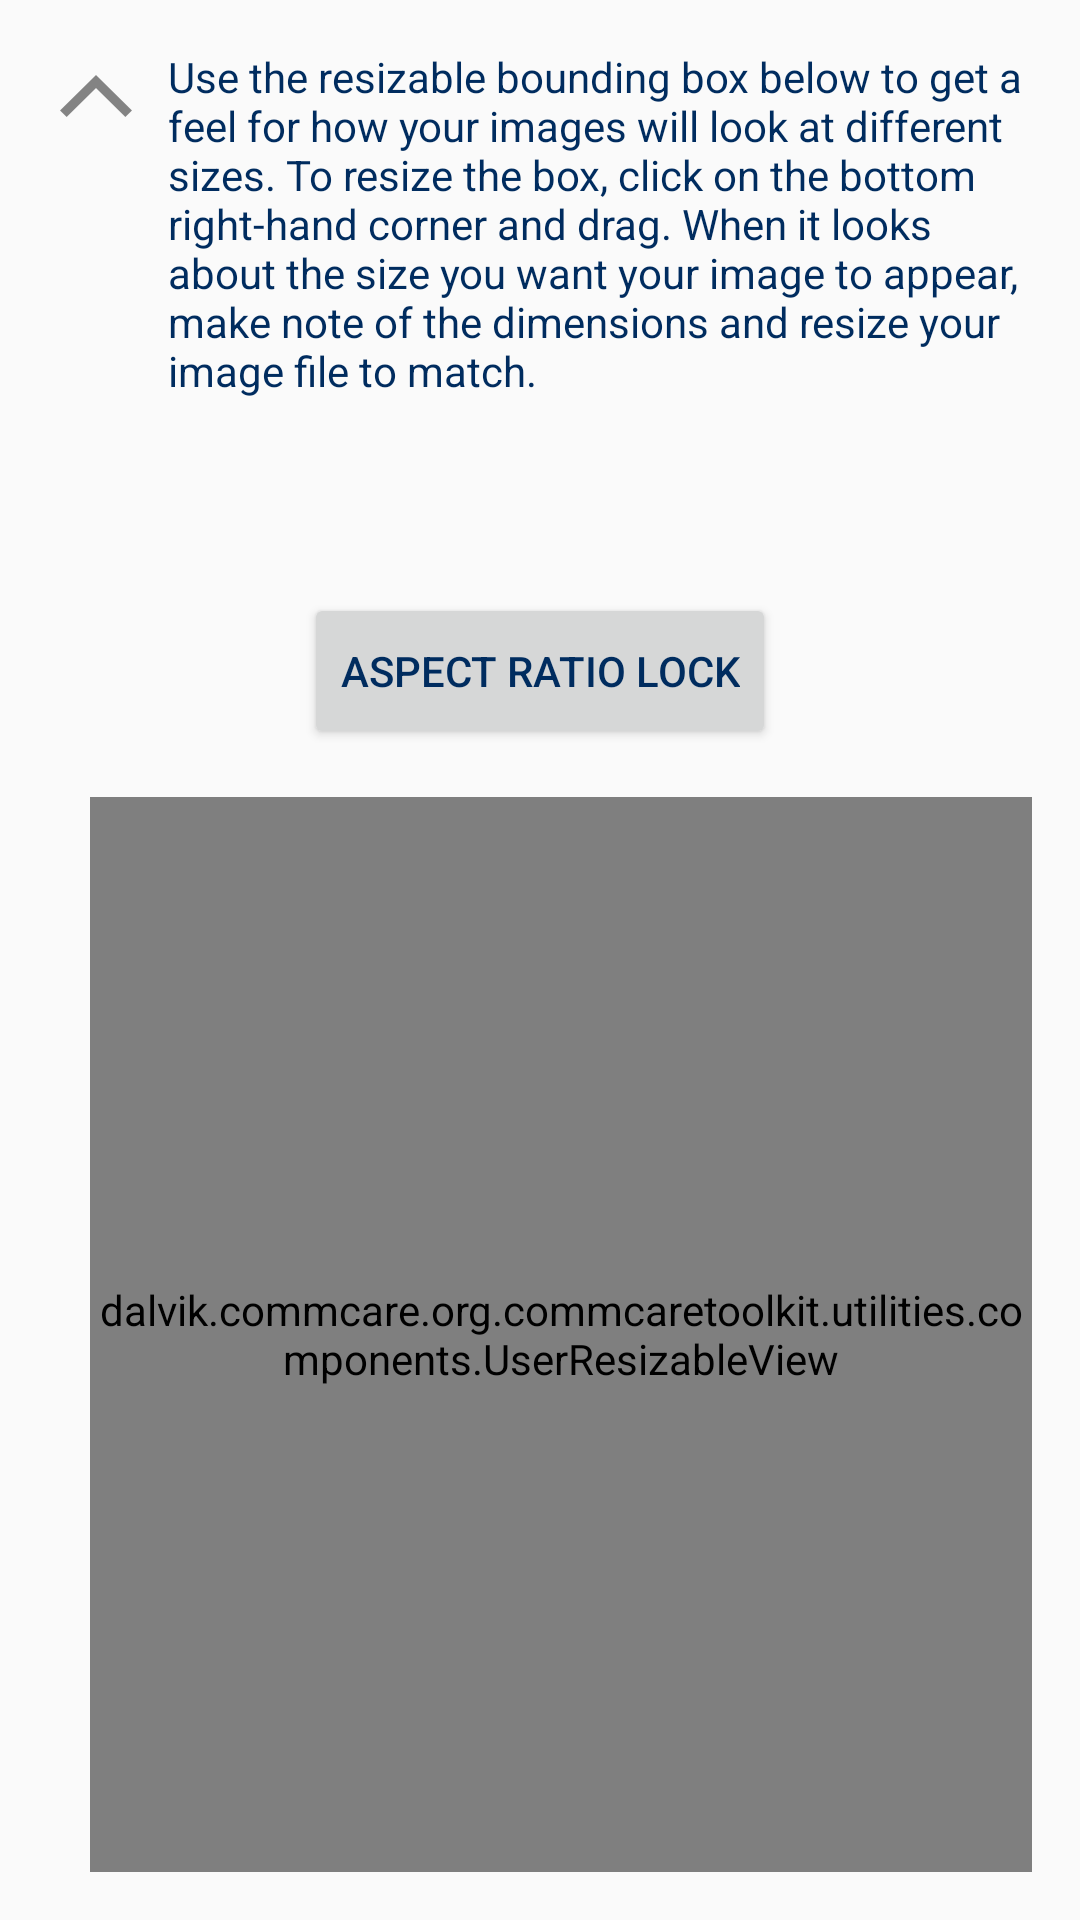

Locate icon controls on the screen. Image size 1080 x 1920, boxes as (x1,y1,x2,y2).
collapse: (60,75,132,117)
